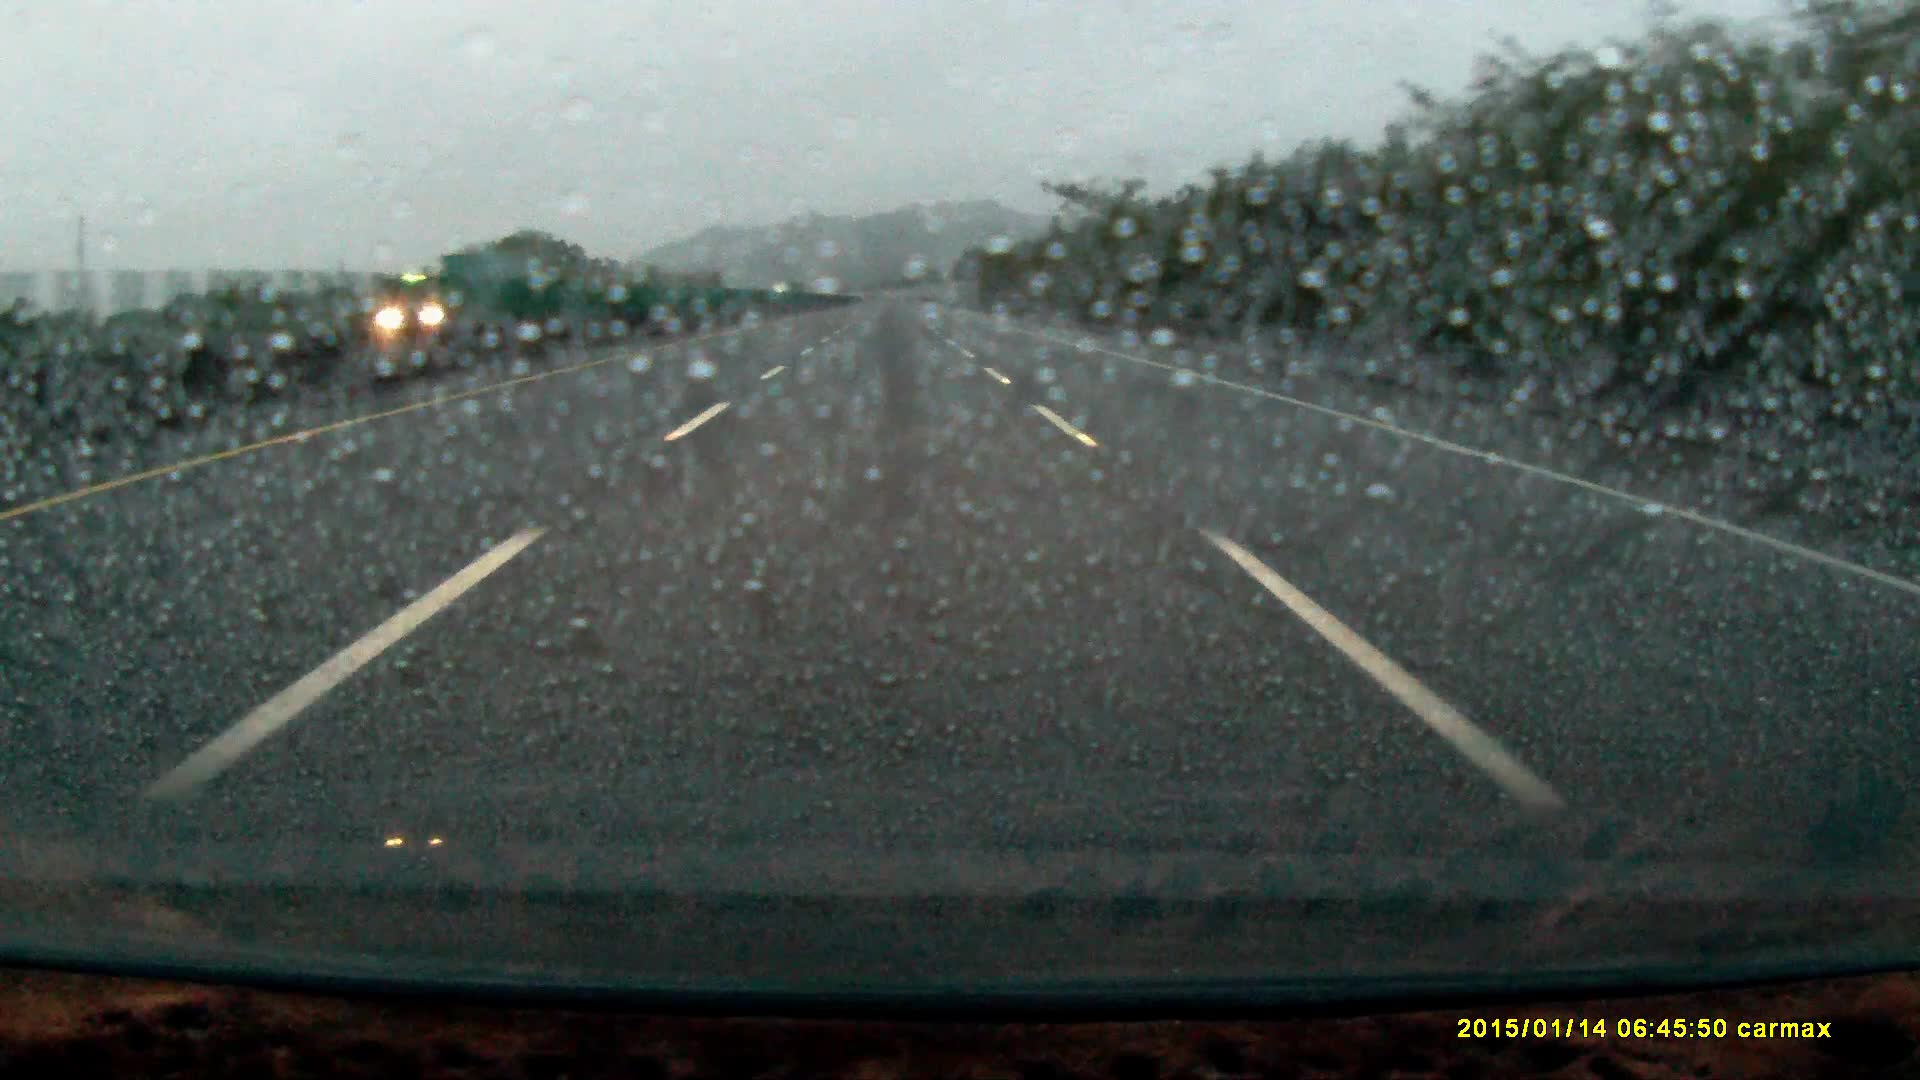vehicle: (375, 256, 527, 342)
